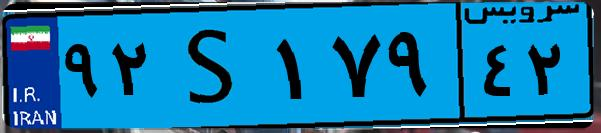1: (270, 28, 330, 110)
2: (525, 38, 570, 115), (110, 28, 158, 98)
4: (475, 38, 525, 113)
7: (330, 28, 385, 110)
9: (385, 28, 445, 110), (57, 26, 110, 100)
S: (158, 12, 270, 120)
